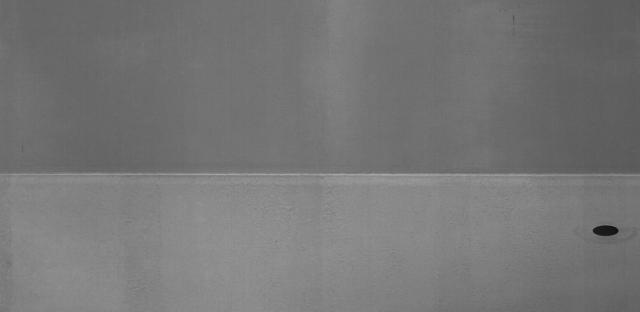punching_hole: (583, 220, 624, 240)
welding_line: (1, 163, 640, 194)
